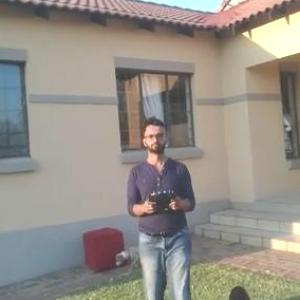follow: (119, 109, 201, 299)
